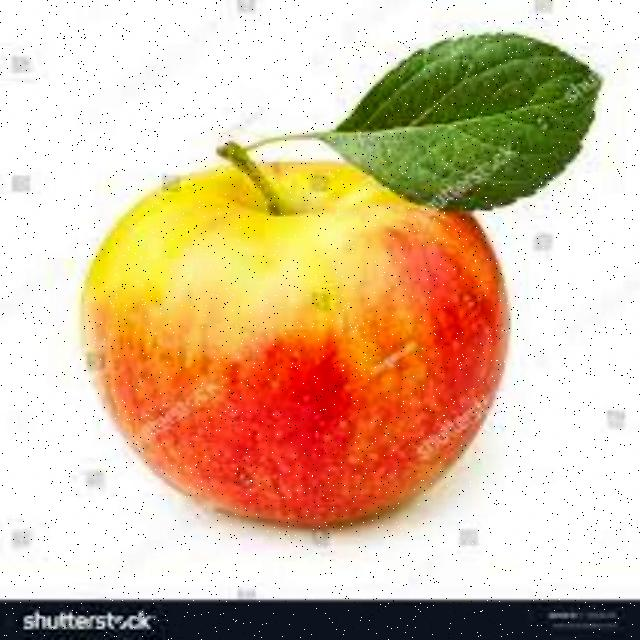HEALTHY: (73, 119, 527, 539)
